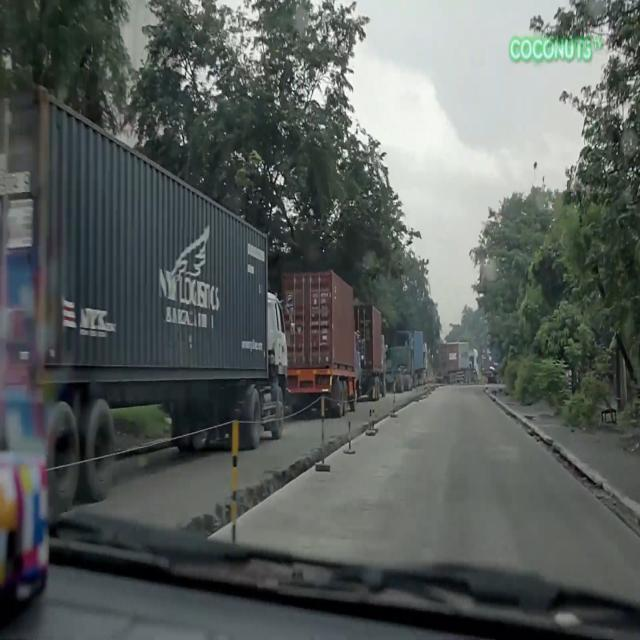truck: (0, 82, 288, 513), (282, 266, 362, 418), (354, 304, 388, 404), (430, 339, 480, 389), (394, 326, 430, 389)
